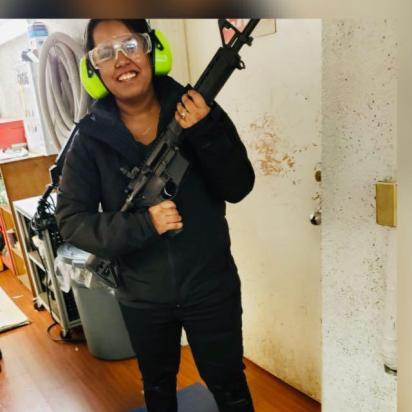Gun: (82, 18, 261, 292)
